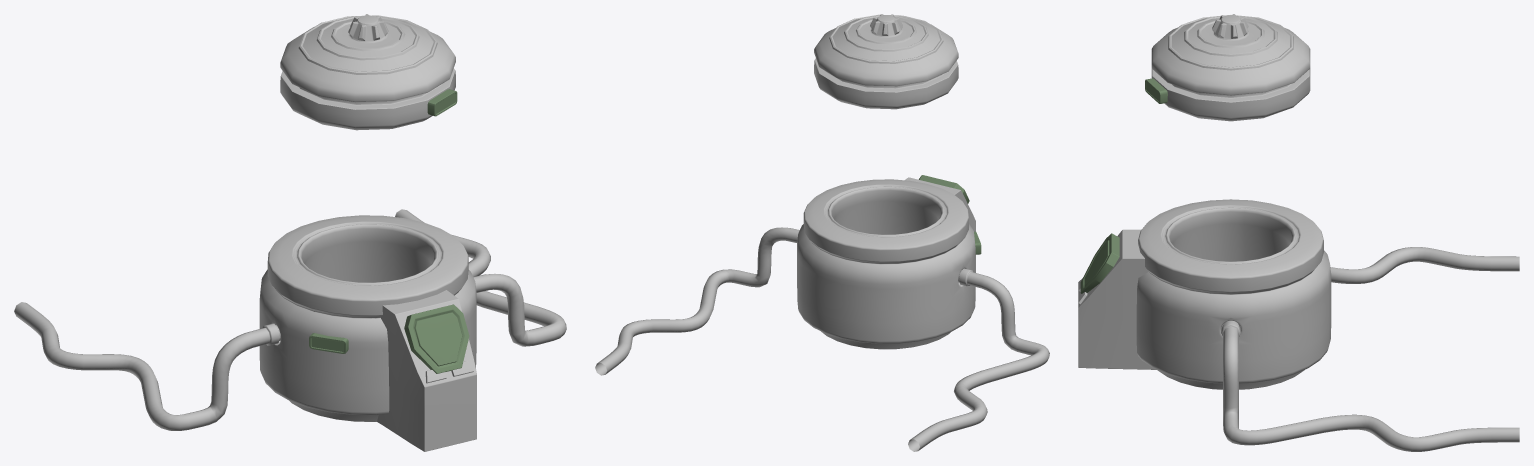
Rendered from SM_Incubateur_01.fbx.
The picture shows the model from 3 angles, left to right: view 1: azimuth 30°, elevation 25°; view 2: azimuth 150°, elevation 25°; view 3: azimuth 270°, elevation 25°; orthographic projection. The views are drawn at different scales.
Parts seen in each view (by area): view 1: polySurface6, polySurface7, sweep4, pCube72, pCube70, pCube73, pCube69; view 2: polySurface6, polySurface7, sweep4; view 3: polySurface6, polySurface7, sweep4, pCube72, pCube70.
Part boxes in pixels (x1,y1,x2,y2): polySurface6: (259,215,476,421); polySurface7: (280,14,455,130); sweep4: (14,209,566,430); pCube72: (377,290,476,451); pCube70: (404,304,469,373); pCube73: (309,333,348,353); pCube69: (427,89,457,116); polySurface6: (797,179,975,349); polySurface7: (814,14,958,109); sweep4: (595,227,1049,451); polySurface6: (1136,199,1331,389); polySurface7: (1151,14,1310,121); sweep4: (1221,247,1519,451); pCube72: (1078,229,1156,369); pCube70: (1080,233,1119,293).
Bounding box in the file's own units: 414 × 331 × 392.
